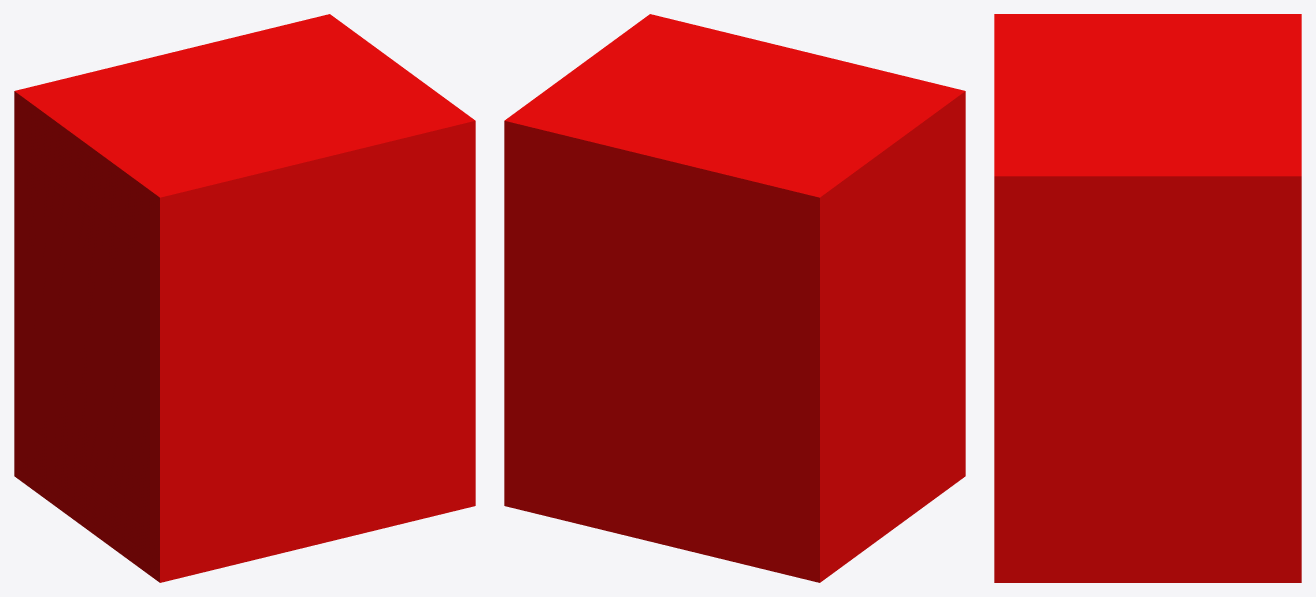
Rendered from modelo.glb.
3 renders of one model, left to right at view 1: azimuth 30°, elevation 25°; view 2: azimuth 150°, elevation 25°; view 3: azimuth 270°, elevation 25°, orthographic. The views are drawn at different scales.
Size of the model in its own units: 0.6 by 0.7 by 0.4801.
